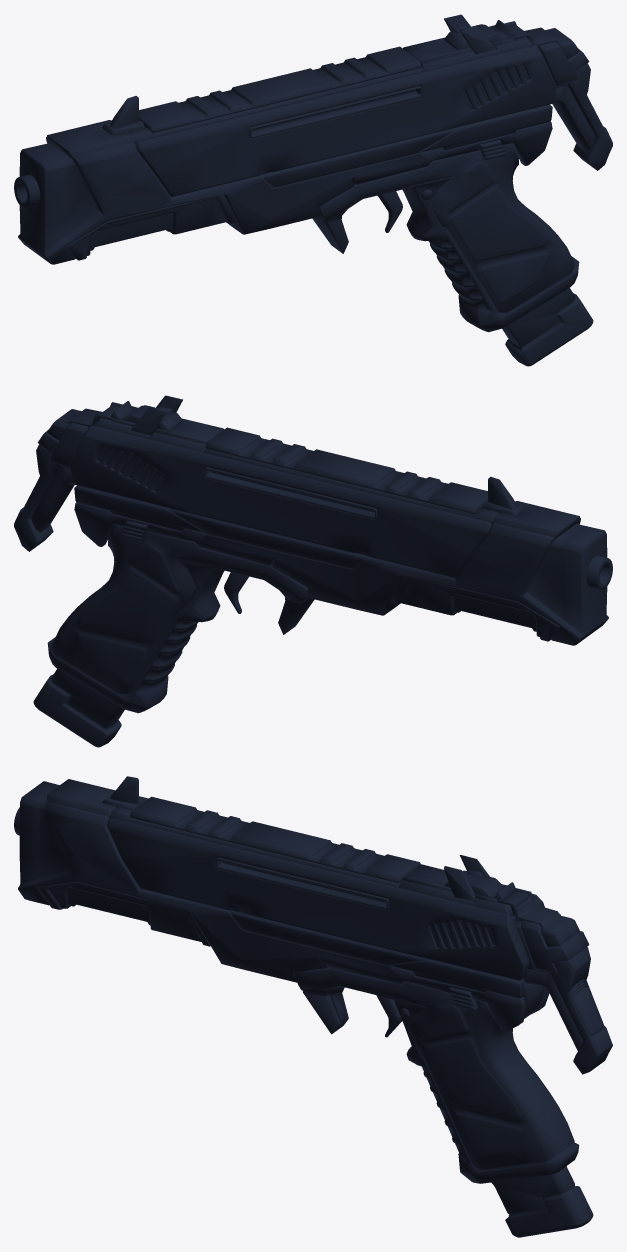
Rendered from Weapon.FBX.
3 views of the same model, one above another, from view 1: azimuth 30°, elevation 25°; view 2: azimuth 150°, elevation 25°; view 3: azimuth 330°, elevation 25° (orthographic).
Visible parts, largest first — view 1: Main_low, Slide_low, HandleLower_low, Rail_low, HandleRear_low, Top_low, Magazine_low, Detail_low, Holder_low, AimRear_low, AimBase_low, Barrel_low (+2 smaller); view 2: Main_low, Slide_low, HandleLower_low, Rail_low, HandleRear_low, Top_low, Magazine_low, Detail_low, Holder_low, AimRear_low, AimBase_low, Barrel_low (+2 smaller); view 3: Main_low, Slide_low, HandleLower_low, HandleRear_low, Rail_low, Magazine_low, Top_low, Detail_low, Holder_low, AimRear_low, AimBase_low.
Boxes of the visible parts, bbox=[...] form: Main_low: bbox=[18, 104, 552, 264]; Slide_low: bbox=[135, 44, 556, 197]; HandleLower_low: bbox=[312, 143, 579, 332]; Rail_low: bbox=[139, 46, 421, 132]; HandleRear_low: bbox=[504, 21, 612, 170]; Top_low: bbox=[47, 36, 532, 159]; Magazine_low: bbox=[502, 288, 593, 366]; Detail_low: bbox=[249, 86, 422, 138]; Holder_low: bbox=[403, 25, 514, 63]; AimRear_low: bbox=[444, 14, 496, 54]; AimBase_low: bbox=[444, 20, 515, 49]; Barrel_low: bbox=[14, 174, 40, 208]; Main_low: bbox=[74, 485, 608, 645]; Slide_low: bbox=[70, 425, 491, 578]; HandleLower_low: bbox=[47, 524, 314, 713]; Rail_low: bbox=[205, 427, 487, 513]; HandleRear_low: bbox=[14, 402, 122, 551]; Top_low: bbox=[94, 417, 579, 540]; Magazine_low: bbox=[33, 669, 124, 747]; Detail_low: bbox=[204, 467, 377, 519]; Holder_low: bbox=[112, 406, 223, 444]; AimRear_low: bbox=[130, 395, 182, 435]; AimBase_low: bbox=[111, 401, 182, 430]; Barrel_low: bbox=[586, 555, 612, 589]; Main_low: bbox=[18, 781, 549, 1032]; Slide_low: bbox=[107, 817, 544, 980]; HandleLower_low: bbox=[294, 967, 579, 1183]; HandleRear_low: bbox=[497, 888, 612, 1074]; Rail_low: bbox=[130, 796, 420, 883]; Magazine_low: bbox=[491, 1166, 593, 1237]; Top_low: bbox=[47, 779, 512, 916]; Detail_low: bbox=[216, 857, 389, 909]; Holder_low: bbox=[403, 864, 544, 1017]; AimRear_low: bbox=[444, 855, 489, 901]; AimBase_low: bbox=[444, 870, 515, 900].
Size of the model in its own units: 315 by 34.21 by 186.
